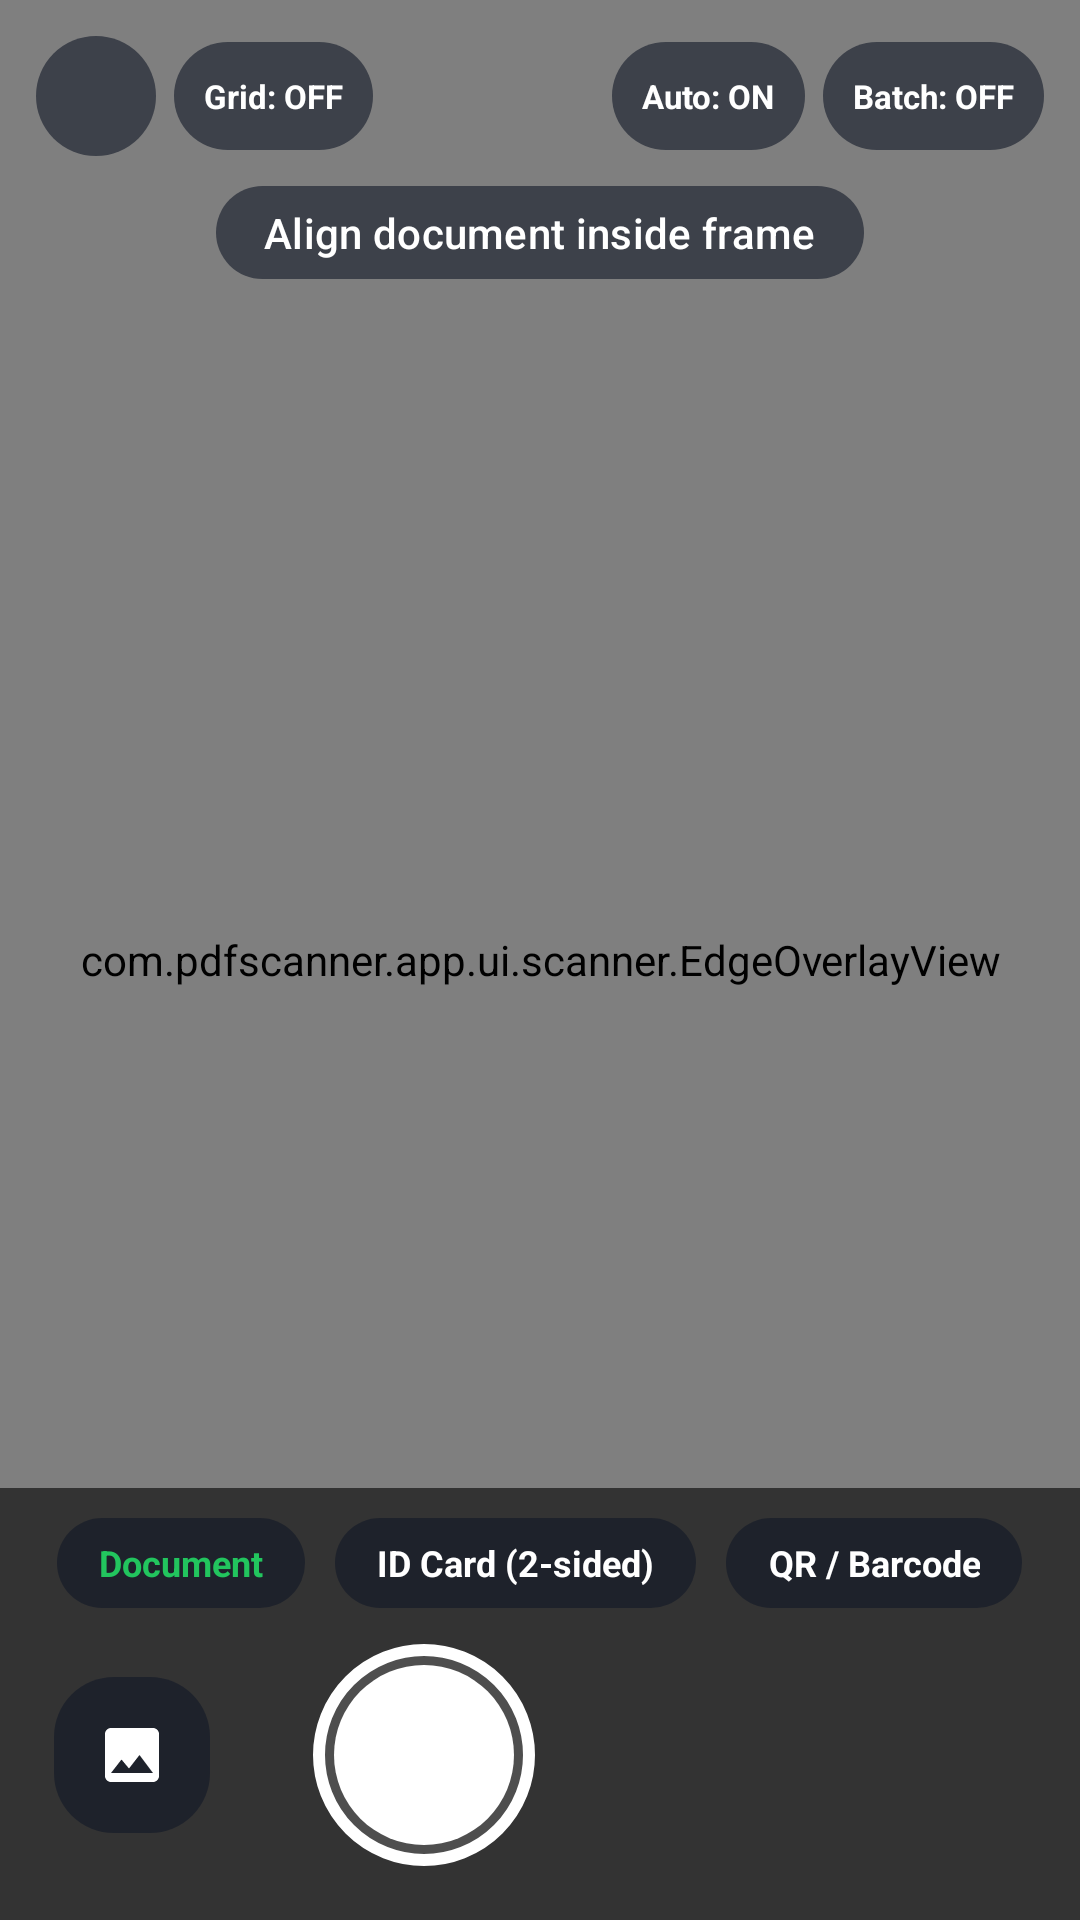

Where icons sit on this 1080px×1920px app screen, as region(x1, y1, x2, y2):
Gallery: region(105, 1728, 159, 1782)
